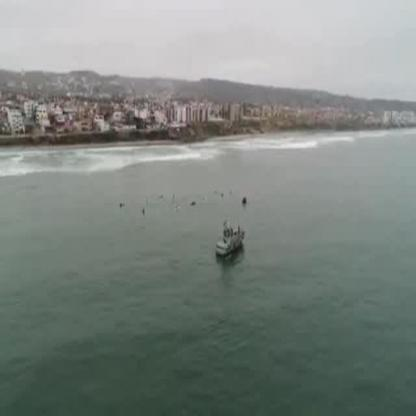Boat: (216, 224, 245, 260)
